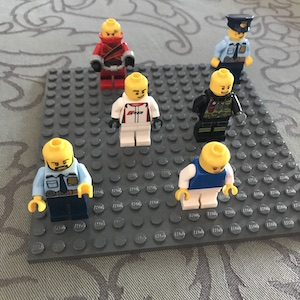Lego: (26, 135, 93, 224), (172, 140, 238, 213), (193, 68, 247, 143), (110, 72, 160, 148), (90, 18, 139, 90), (208, 11, 257, 83)
